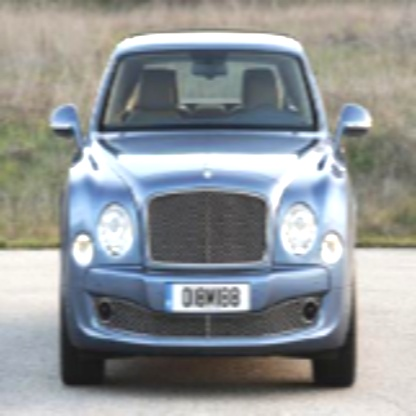Vehicle: (53, 37, 377, 389)
